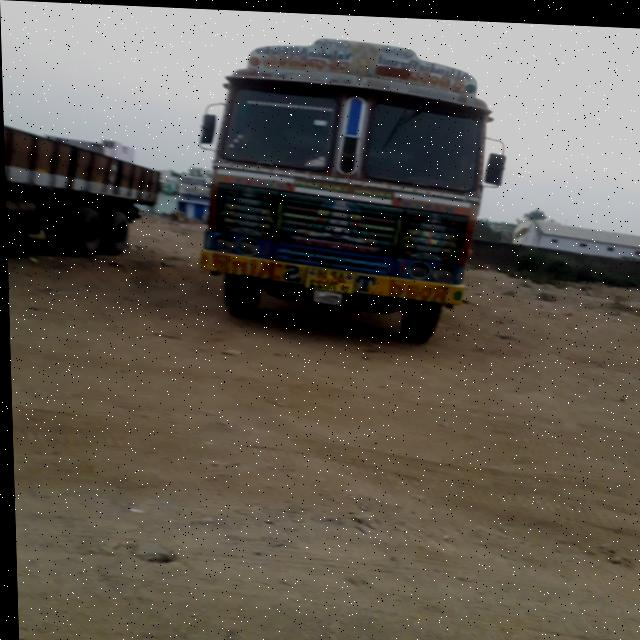plate: (303, 263, 354, 292)
